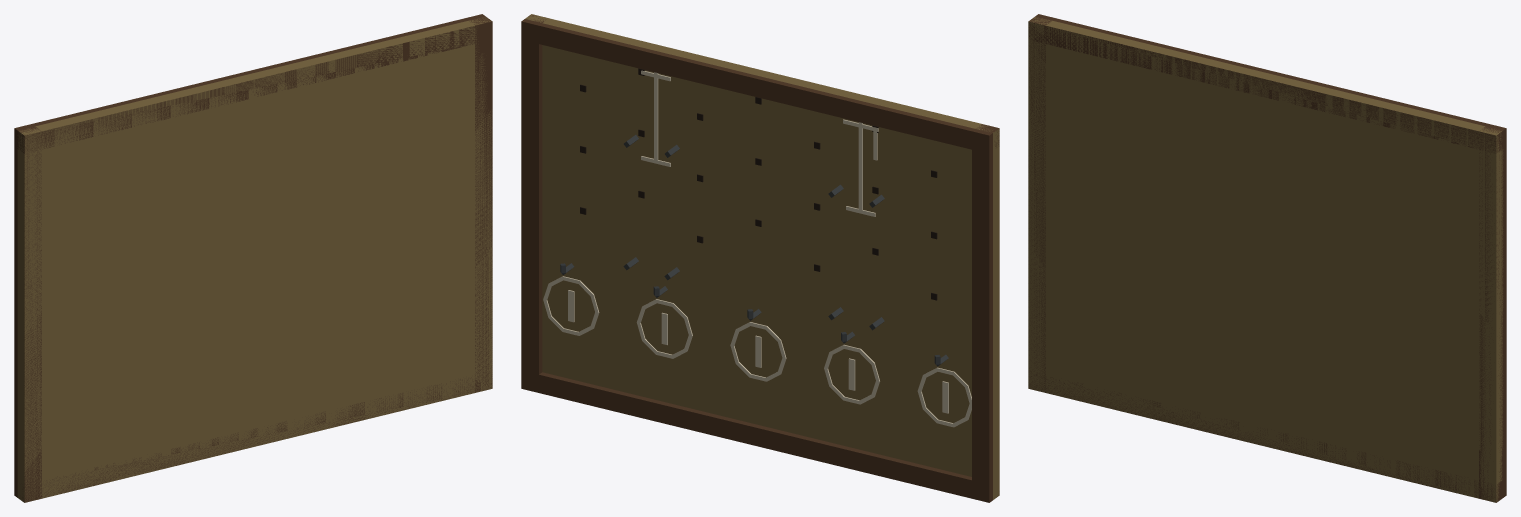
Rendered from prop_pegboard.glb.
3 renders of one model, left to right at view 1: azimuth 30°, elevation 25°; view 2: azimuth 150°, elevation 25°; view 3: azimuth 330°, elevation 25°, orthographic.
Parts seen in each view (by area): view 1: Board; view 2: Board, Outlines, Pegs; view 3: Board.
Part boxes in pixels (x1,y1,x2,y2): Board: (14, 14, 492, 502); Board: (521, 14, 999, 502); Outlines: (543, 70, 971, 427); Pegs: (560, 135, 948, 366); Board: (1028, 14, 1506, 502).
Bounding box in the file's own units: 1.6 × 1.2 × 0.1.
